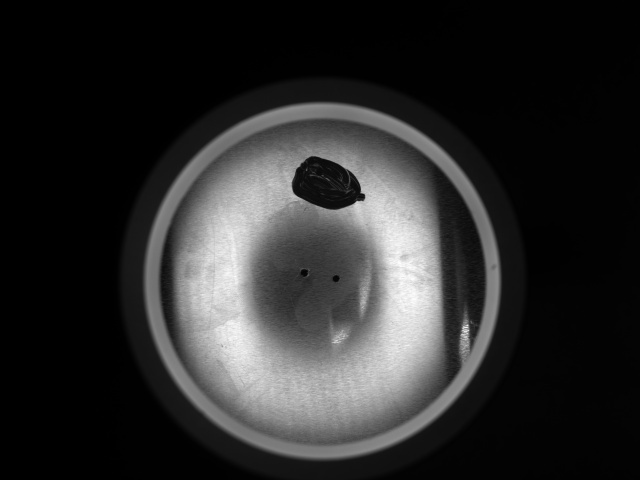zang_wu: (290, 155, 368, 212)
zhen_kong: (298, 266, 311, 278), (329, 272, 342, 284)
